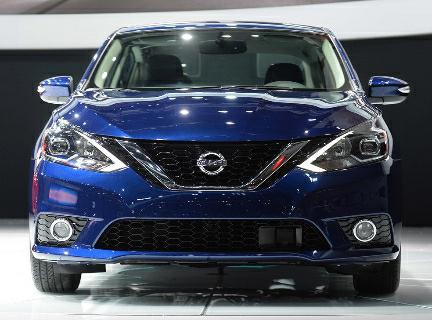日产-Sentra: (25, 15, 412, 300)
